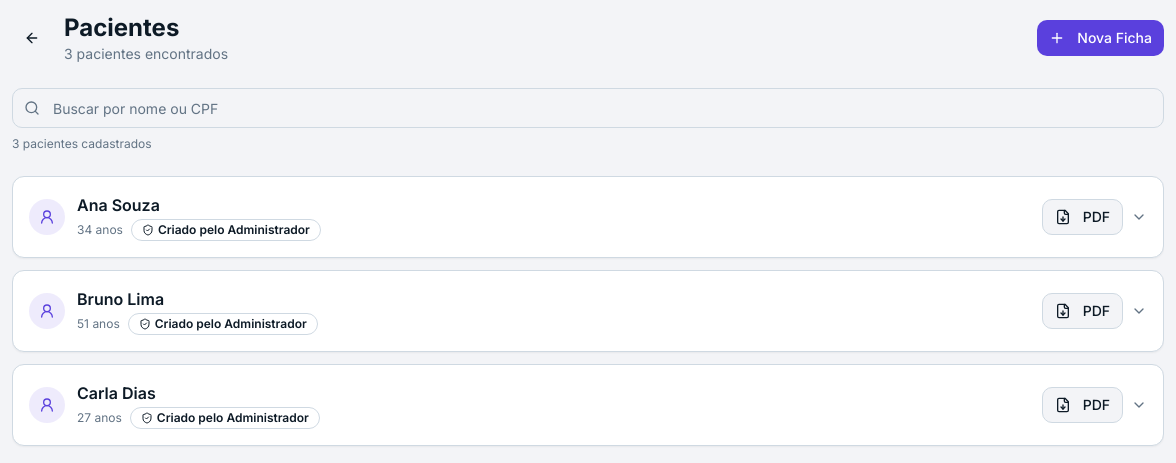
Patients search › finds a patient by CPF digits typed without formatting
Check: the text "Ana Souza" is shown, box [77,195,160,215]
Step 1. Type "78909" into the field labelled "Buscar por nome ou CPF" → {"x": 588, "y": 108}, box [12,88,1164,128]
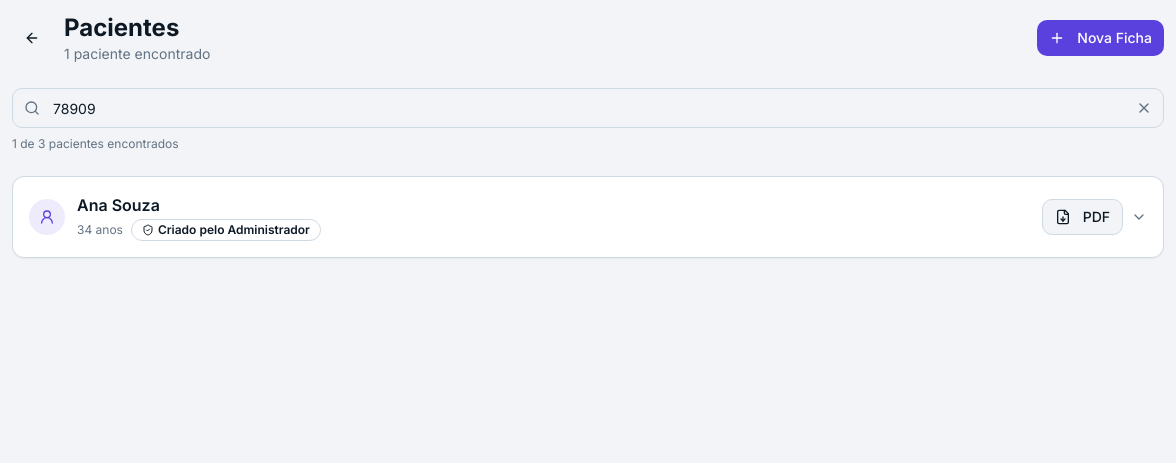
Check: the text "Ana Souza" is shown, box [77,195,160,215]
Check: the text "1 de 3 pacientes encontrados" is shown, box [12,136,179,151]
Check: the text "Bruno Lima" is gone
